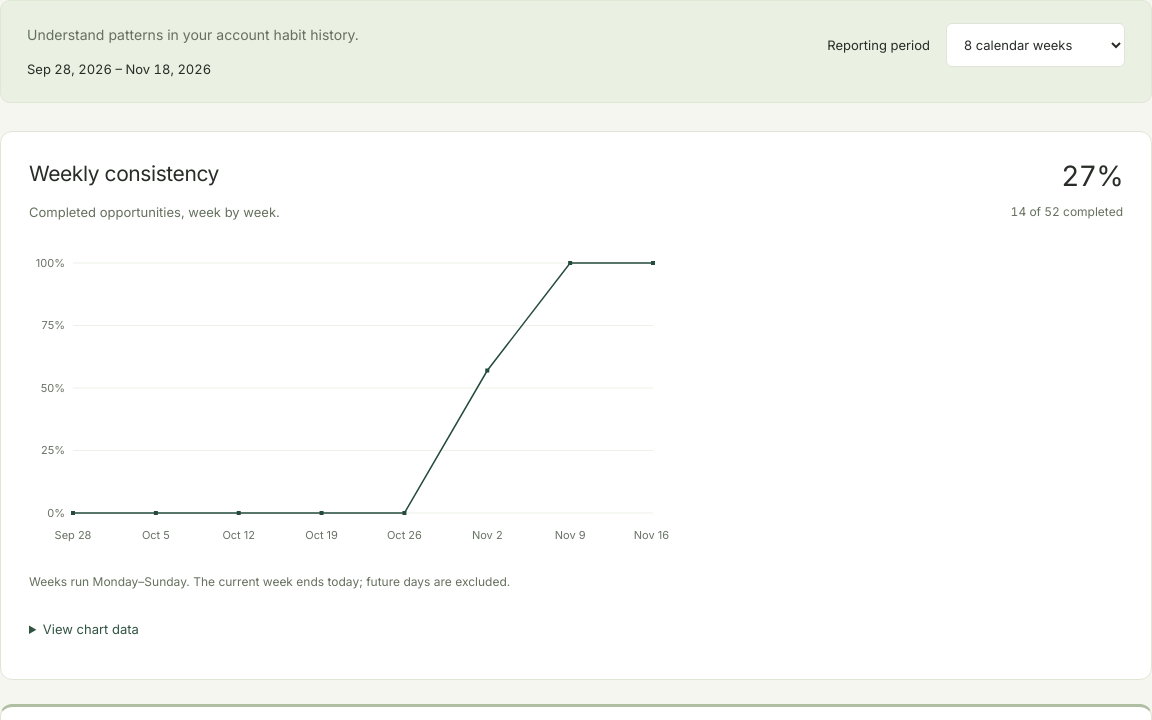
Scenario: Insights report interactions › labels the selector and changes actual chart periods while tomorrow risk and drop-off stay fixed
expect the label "Reporting period" is shown: met, box [827,35,930,55]
Select "4 calendar weeks" in the dropdown labelled "Reporting period" at (1036, 45), box [946,23,1125,67]
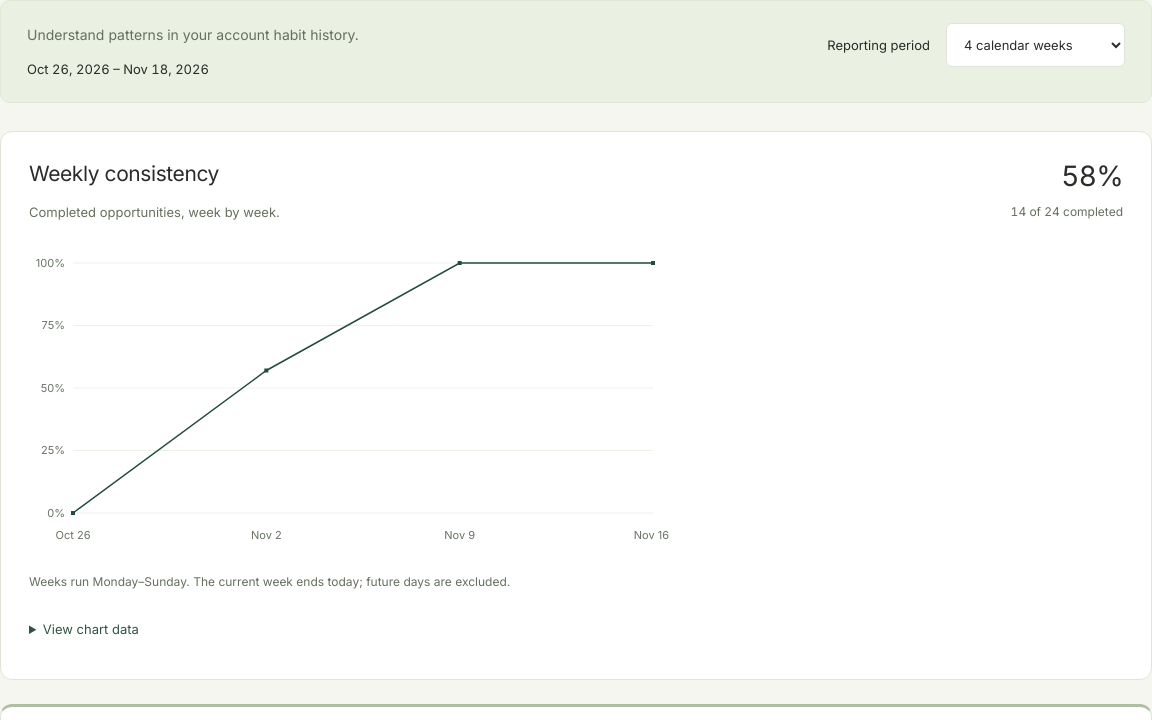
expect the text with class "report-period" shows "Oct 26, 2026": met, box [27,60,110,76]
Select "12 calendar weeks" in the dropdown labelled "Reporting period" at (1036, 45), box [946,23,1125,67]
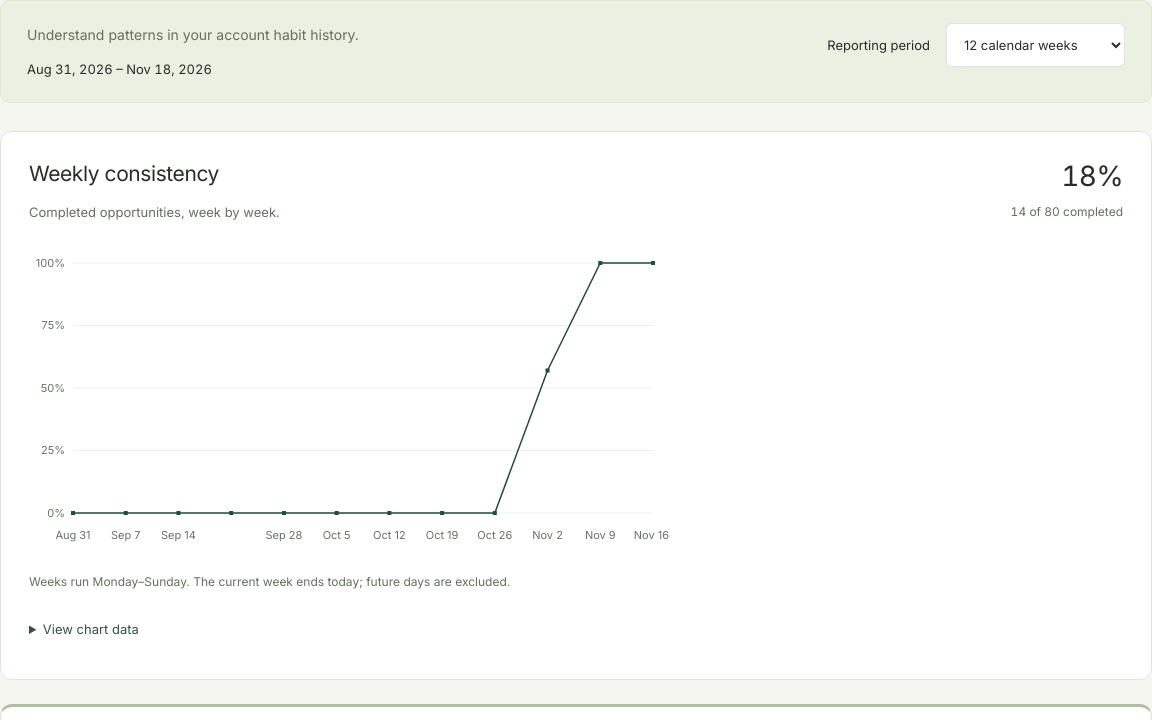
expect the text with class "report-period" shows "Aug 31, 2026": met, box [27,60,113,76]
